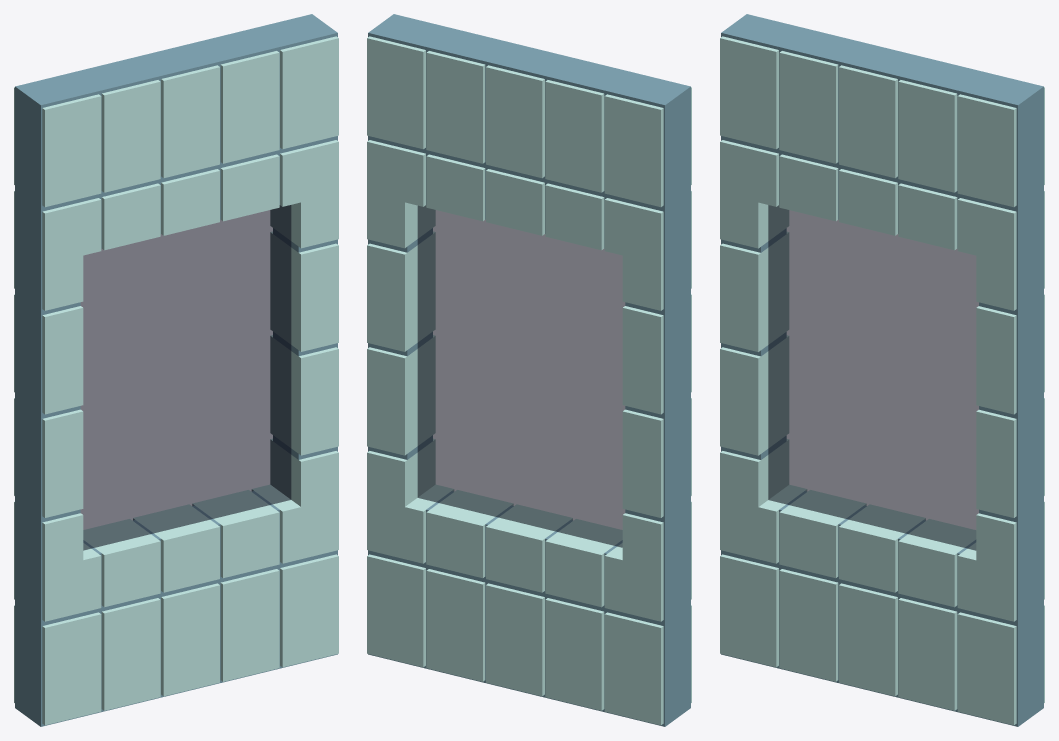
The model's file is BathroomTilesWindow.glb.
3 views of the same model, side by side, from view 1: azimuth 30°, elevation 25°; view 2: azimuth 150°, elevation 25°; view 3: azimuth 330°, elevation 25° (orthographic).
Visible parts, largest first — view 1: wall_bathroomTiles_window; view 2: wall_bathroomTiles_window; view 3: wall_bathroomTiles_window.
Part boxes in pixels (x1,y1,x2,y2): wall_bathroomTiles_window: [14, 14, 338, 726]; wall_bathroomTiles_window: [367, 14, 691, 726]; wall_bathroomTiles_window: [720, 14, 1044, 726].
Size of what is drawn, in the model's own units: 2 by 4 by 0.36.
2 materials, 2 textured.
